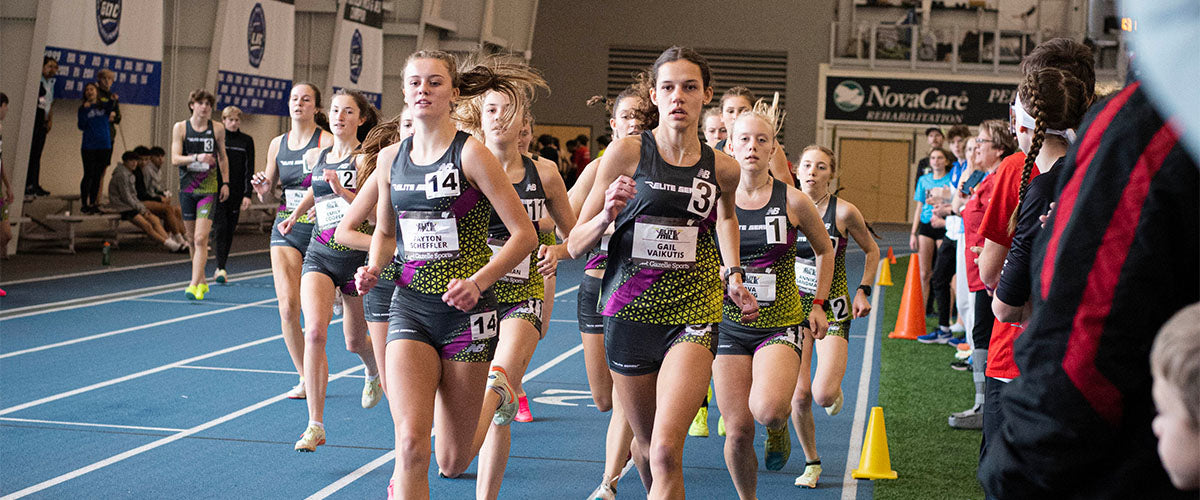runner: (585, 44, 743, 500), (368, 52, 521, 500), (726, 111, 813, 494), (785, 146, 876, 491), (301, 88, 381, 459), (262, 81, 332, 405), (168, 88, 234, 303)
